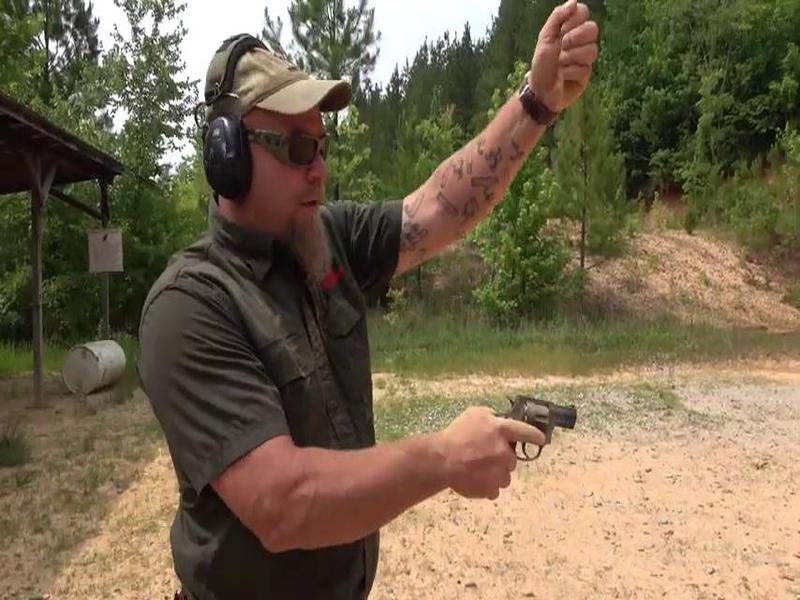Revolver: (454, 364, 598, 500)
